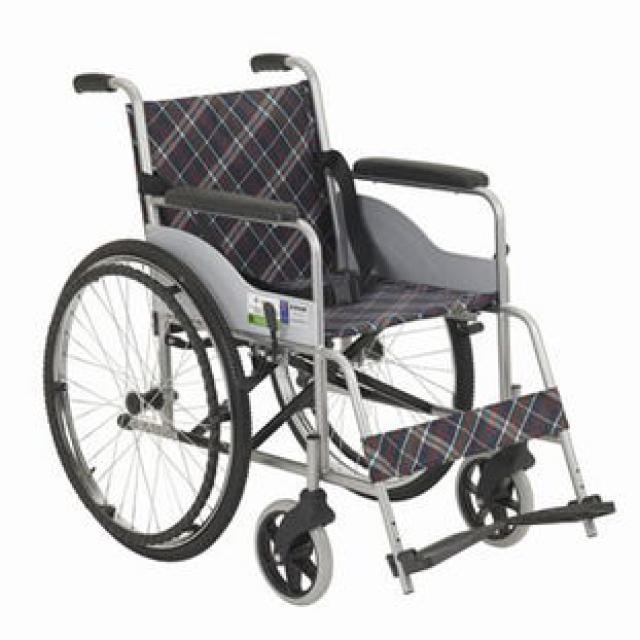wheelchair: (26, 41, 620, 607)
